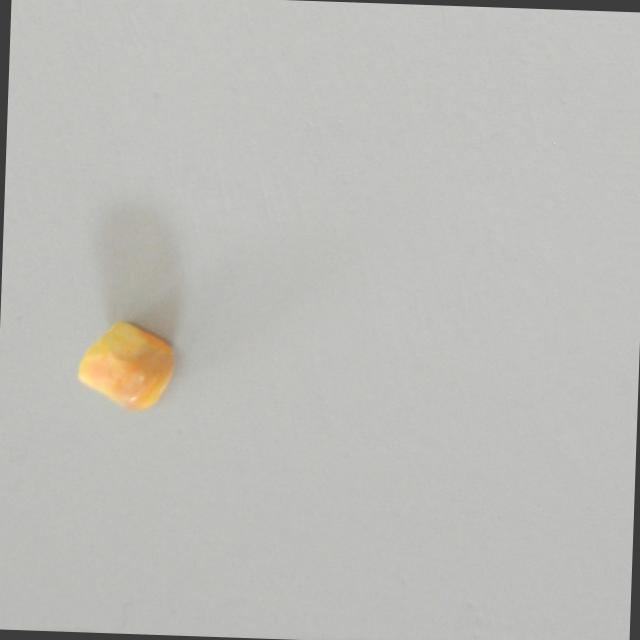dañado: (72, 306, 184, 423)
